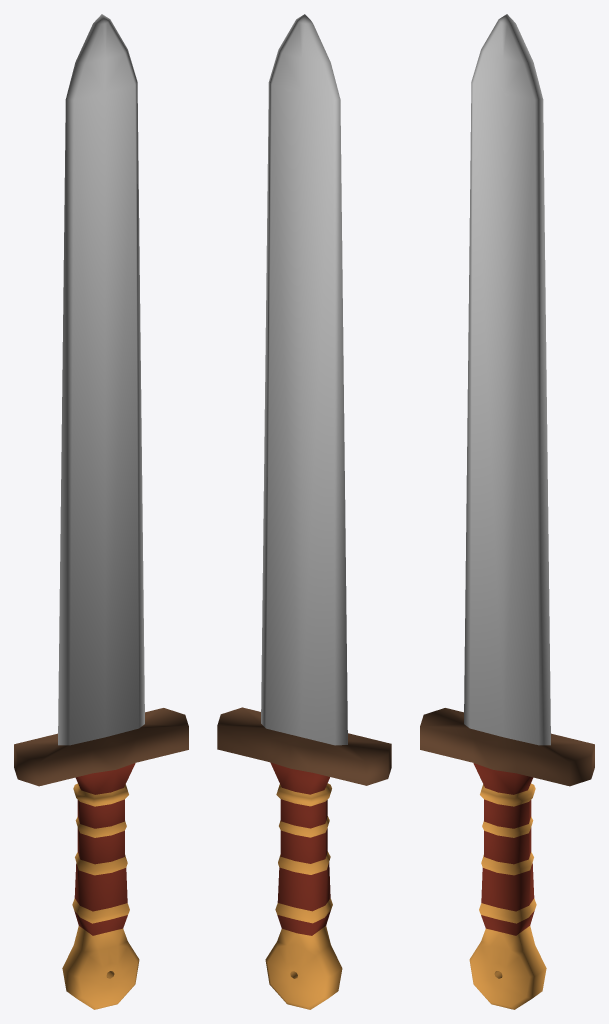
File: Sword.gltf
3 renders of one model, left to right at view 1: azimuth 30°, elevation 25°; view 2: azimuth 150°, elevation 25°; view 3: azimuth 330°, elevation 25°, orthographic.
Parts seen in each view (by area): view 1: Node1; view 2: Node1; view 3: Node1.
Boxes of the visible parts, x1,y1,x2,y2 form: Node1: (14,14,188,1009); Node1: (217,14,391,1009); Node1: (420,14,594,1009).
Size of the model in its own units: 0.7711 by 4.35 by 0.2286.
